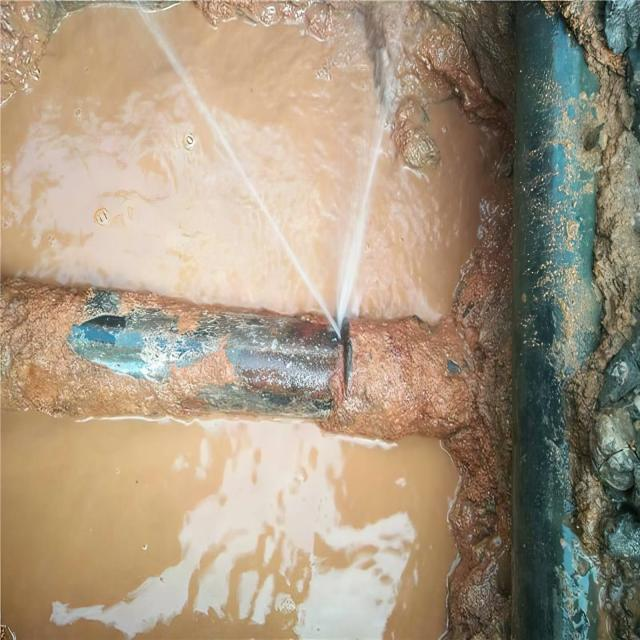leak: (148, 23, 384, 335)
